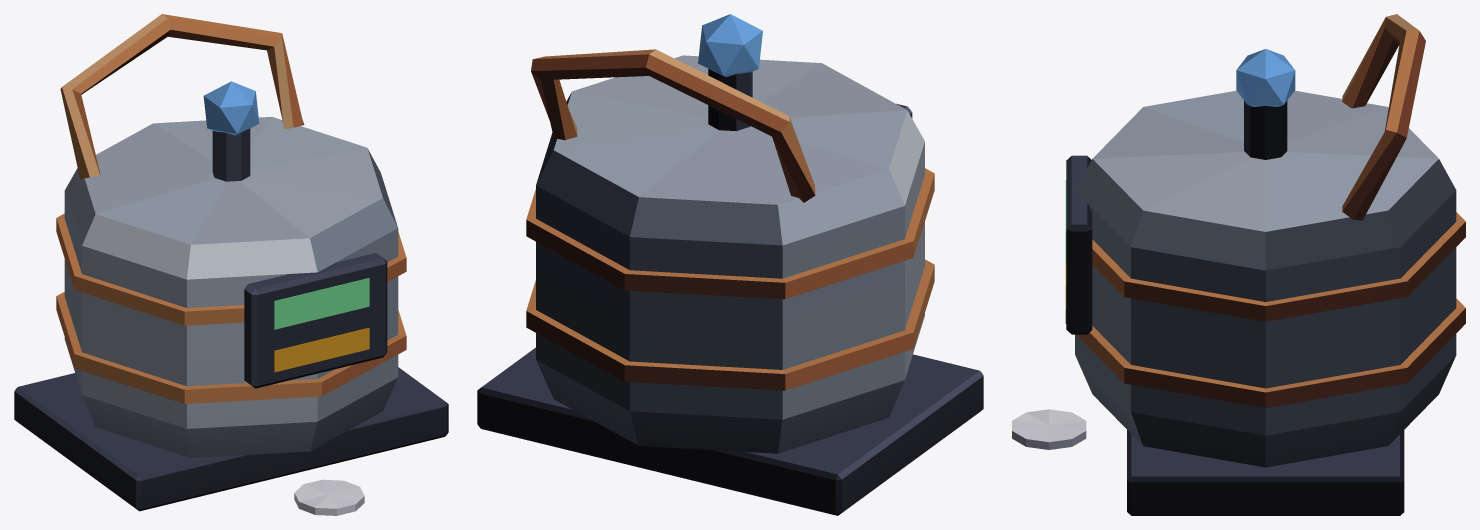
File: generator.glb
3 renders of one model, left to right at view 1: azimuth 30°, elevation 25°; view 2: azimuth 150°, elevation 25°; view 3: azimuth 270°, elevation 25°, orthographic. The views are drawn at different scales.
Parts seen in each view (by area): view 1: generator; view 2: generator; view 3: generator.
Boxes of the visible parts, box(x1,y1,x2,y2) form: generator: box(14, 14, 448, 515); generator: box(477, 14, 983, 515); generator: box(1012, 14, 1465, 515).
Bounding box in the file's own units: 0.924 × 1.03 × 1.05.
